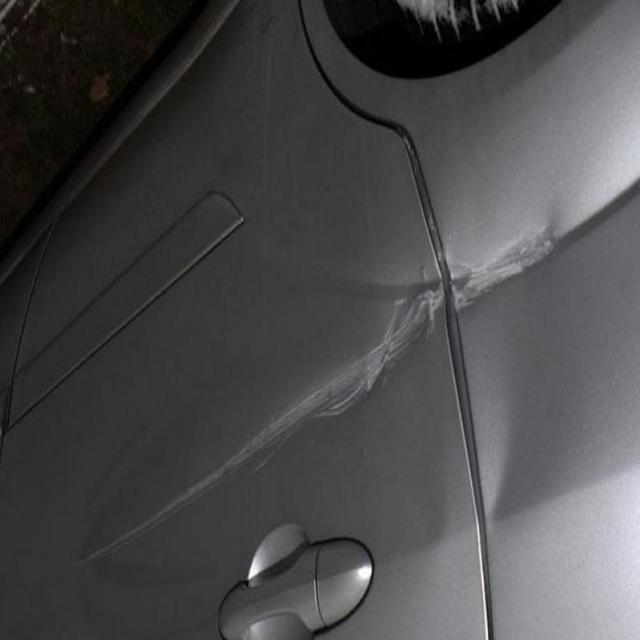scratch: (316, 177, 604, 438)
